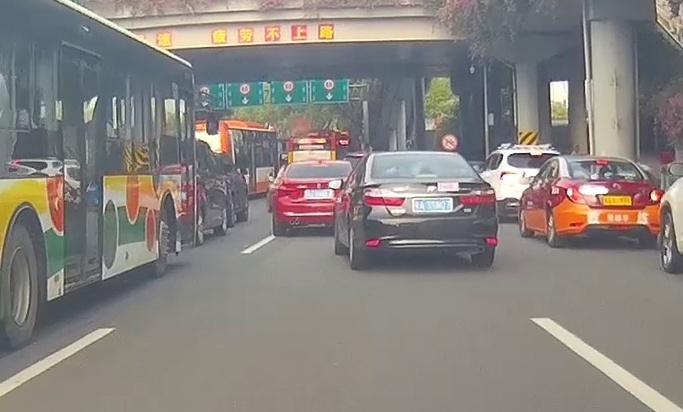L_light: (363, 190, 406, 207), (565, 184, 587, 205)
R_light: (459, 188, 496, 204), (645, 186, 661, 205)
T_light: (416, 173, 439, 178), (596, 160, 608, 164)
day-no: (358, 152, 498, 271)
night-right: (561, 156, 662, 248)
